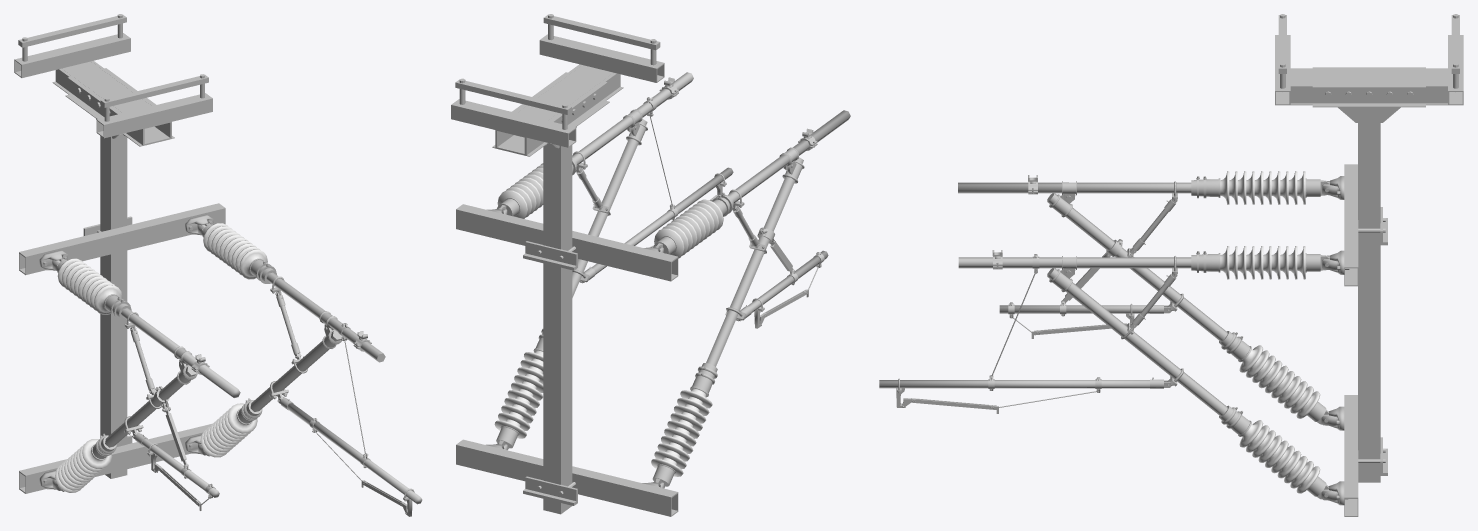
The model's file is gantry_short_double_1.obj.
3 renders of one model, left to right at view 1: azimuth 30°, elevation 25°; view 2: azimuth 150°, elevation 25°; view 3: azimuth 270°, elevation 25°, orthographic. The views are drawn at different scales.
Parts seen in each view (by area): view 1: 立方体.106, 立方体.243, 立方体.248, 立方体.098, 立方体.096, 立方体.103, 贝塞尔曲线.056, 贝塞尔曲线.100, 贝塞尔曲线.102, 贝塞尔曲线.101, 贝塞尔曲线.055, 立方体.105 (+4 smaller); view 2: 立方体.106, 立方体.243, 立方体.248, 立方体.098, 立方体.096, 立方体.103, 贝塞尔曲线.055, 贝塞尔曲线.101, 贝塞尔曲线.056, 贝塞尔曲线.102, 立方体.105, 贝塞尔曲线.100 (+6 smaller); view 3: 立方体.106, 立方体.103, 贝塞尔曲线.056, 贝塞尔曲线.101, 立方体.105, 贝塞尔曲线.102, 贝塞尔曲线.100, 贝塞尔曲线.055, 立方体.243, 立方体.248, 贝塞尔曲线.048, 立方体.098 (+2 smaller).
Boxes of the visible parts, bbox=[...] form: 立方体.106: bbox=[100, 134, 127, 478]; 立方体.243: bbox=[19, 203, 225, 275]; 立方体.248: bbox=[19, 423, 212, 493]; 立方体.098: bbox=[14, 33, 130, 77]; 立方体.096: bbox=[96, 93, 212, 138]; 立方体.103: bbox=[58, 60, 156, 114]; 贝塞尔曲线.056: bbox=[121, 308, 240, 397]; 贝塞尔曲线.100: bbox=[287, 403, 422, 504]; 贝塞尔曲线.102: bbox=[266, 272, 385, 362]; 贝塞尔曲线.101: bbox=[250, 330, 341, 411]; 贝塞尔曲线.055: bbox=[105, 366, 196, 447]; 立方体.105: bbox=[55, 69, 171, 145]; 立方体.106: bbox=[543, 143, 572, 514]; 立方体.243: bbox=[456, 204, 678, 281]; 立方体.248: bbox=[456, 439, 678, 516]; 立方体.098: bbox=[451, 99, 576, 147]; 立方体.096: bbox=[539, 34, 664, 82]; 立方体.103: bbox=[512, 64, 617, 121]; 贝塞尔曲线.055: bbox=[706, 157, 803, 366]; 贝塞尔曲线.101: bbox=[572, 119, 647, 297]; 贝塞尔曲线.056: bbox=[728, 110, 850, 203]; 贝塞尔曲线.102: bbox=[572, 72, 693, 165]; 立方体.105: bbox=[495, 73, 620, 155]; 贝塞尔曲线.100: bbox=[590, 167, 733, 274]; 立方体.106: bbox=[1358, 107, 1380, 482]; 立方体.103: bbox=[1290, 67, 1447, 87]; 贝塞尔曲线.056: bbox=[958, 182, 1191, 193]; 贝塞尔曲线.101: bbox=[1047, 268, 1227, 416]; 立方体.105: bbox=[1290, 87, 1447, 103]; 贝塞尔曲线.102: bbox=[958, 257, 1191, 268]; 贝塞尔曲线.100: bbox=[879, 380, 1149, 388]; 贝塞尔曲线.055: bbox=[1047, 193, 1227, 341]; 立方体.243: bbox=[1344, 164, 1358, 286]; 立方体.248: bbox=[1344, 395, 1358, 516]; 贝塞尔曲线.048: bbox=[999, 305, 1149, 313]; 立方体.098: bbox=[1448, 35, 1463, 105].
Bounding box in the file's own units: 1.72 × 3.42 × 4.13.
